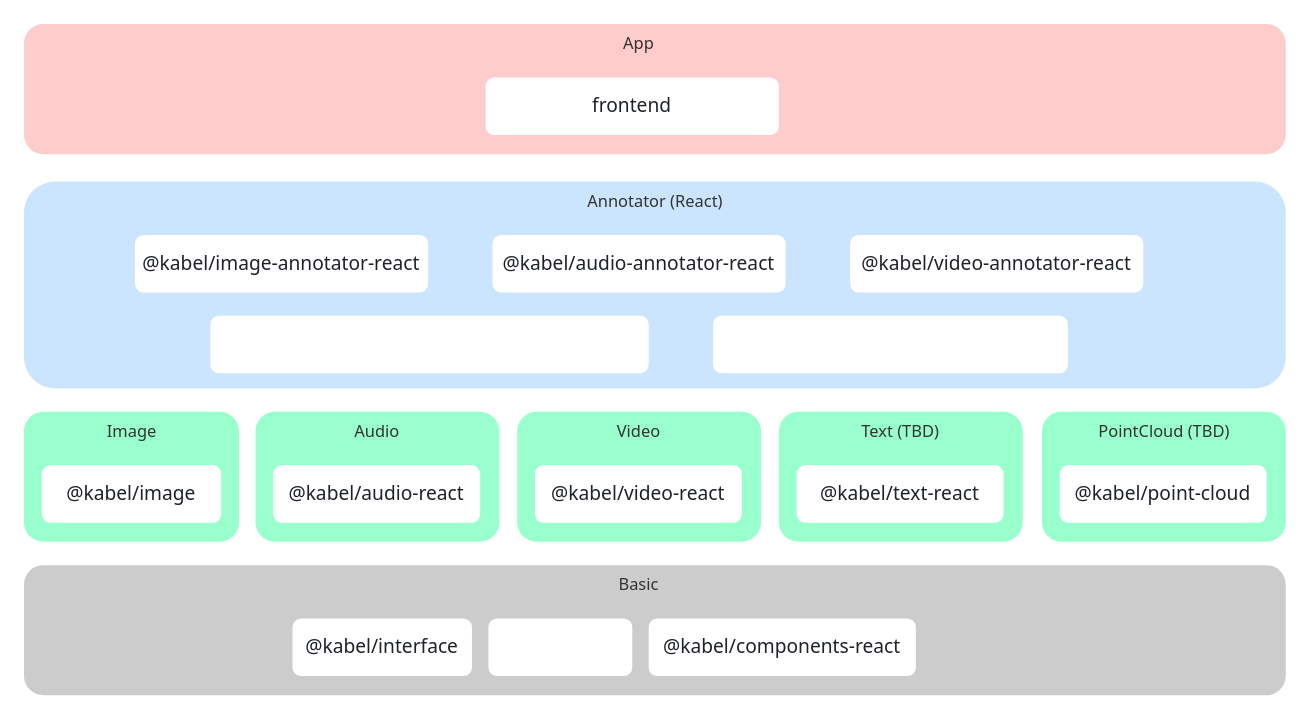
This 1308x718 diagram has some shape labels left out. The shapes that lost their labels are listed below. From the top down, each one's centre as x and y in pixels, then its label:
At (x=429, y=344): "@kabel/point-cloud-annotator-react (TBD)".
At (x=889, y=344): "@kabel/text-annotator-react (TBD)".
At (x=560, y=646): "@kabel/utils".
